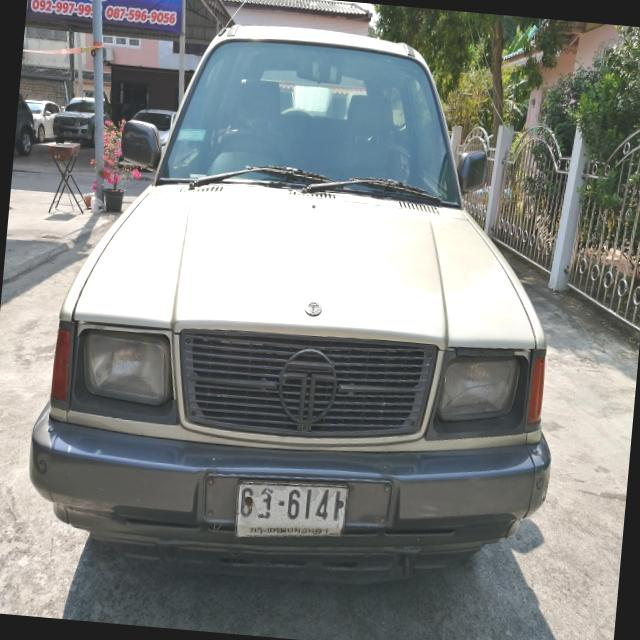license_plate: (232, 472, 352, 550)
